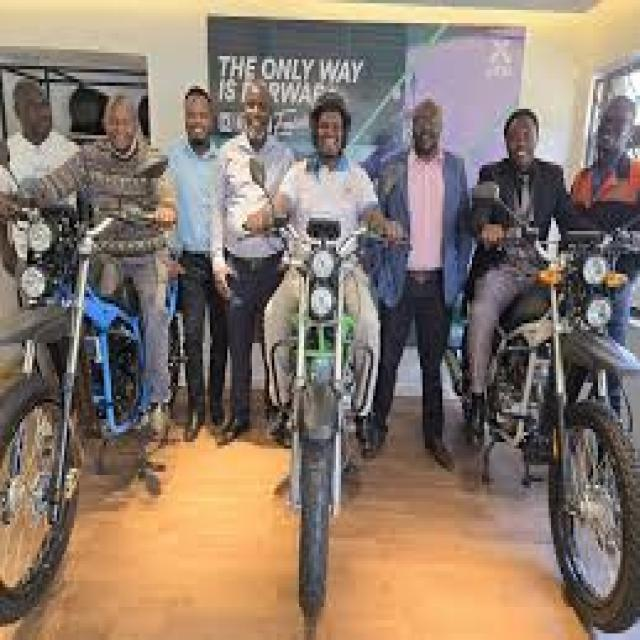bodaboda: (225, 99, 425, 635), (454, 137, 640, 640), (0, 139, 169, 632)
